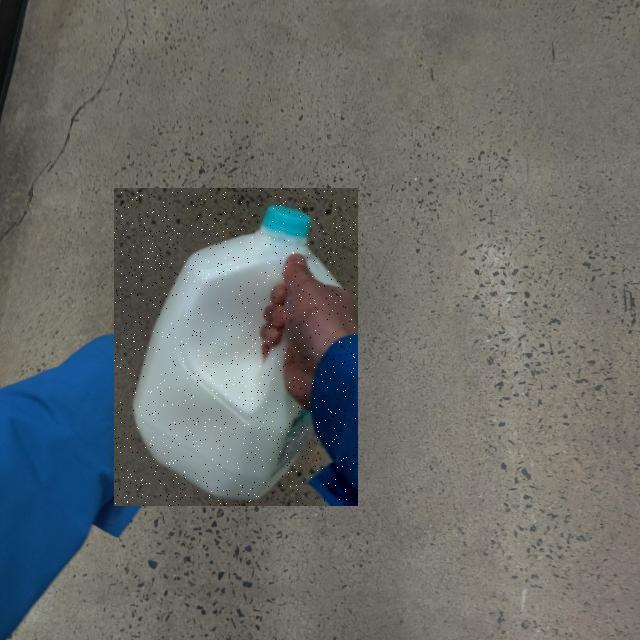milk: (0, 253, 293, 640)
